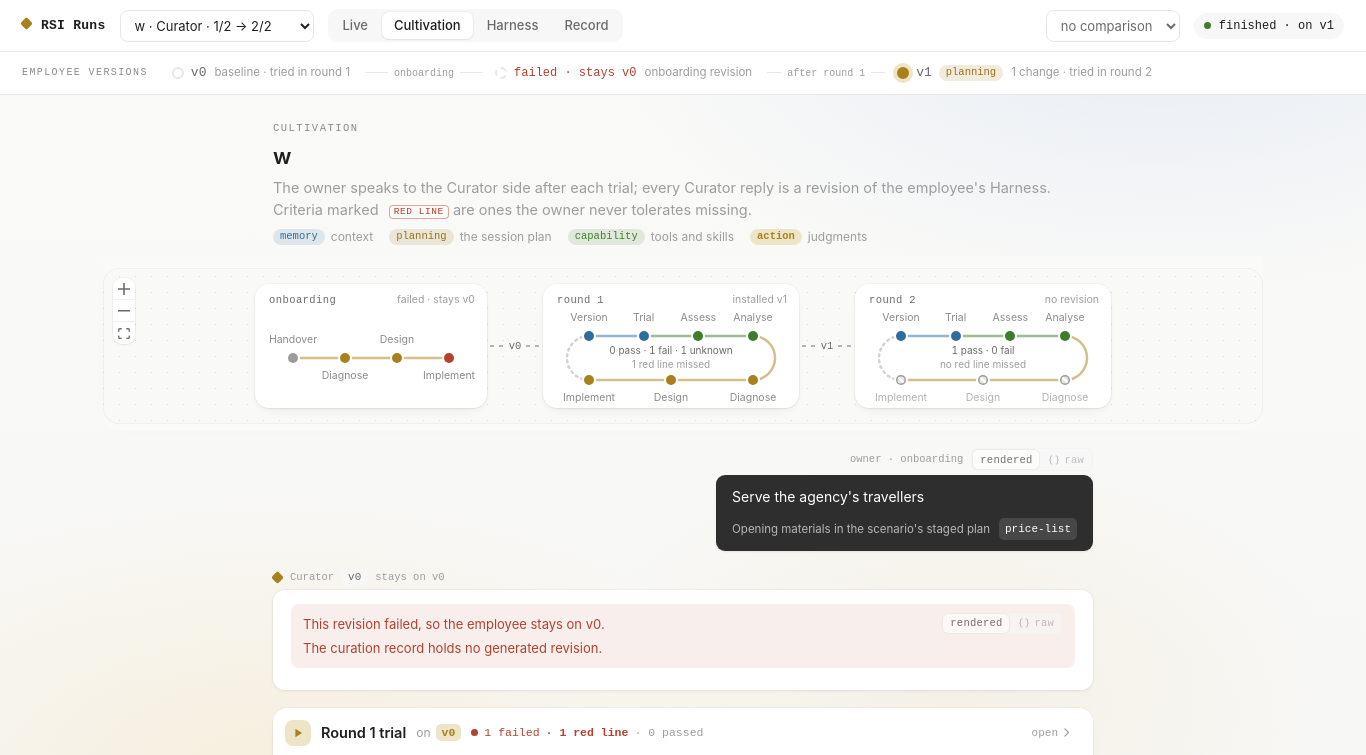
Scenario: the harness view shows changes by harness and red lines by version
Expected: the text "Serve the agency's travellers" is shown, [732,488,924,505]
Click the tab "Harness" at (513, 26), box [475,12,550,39]
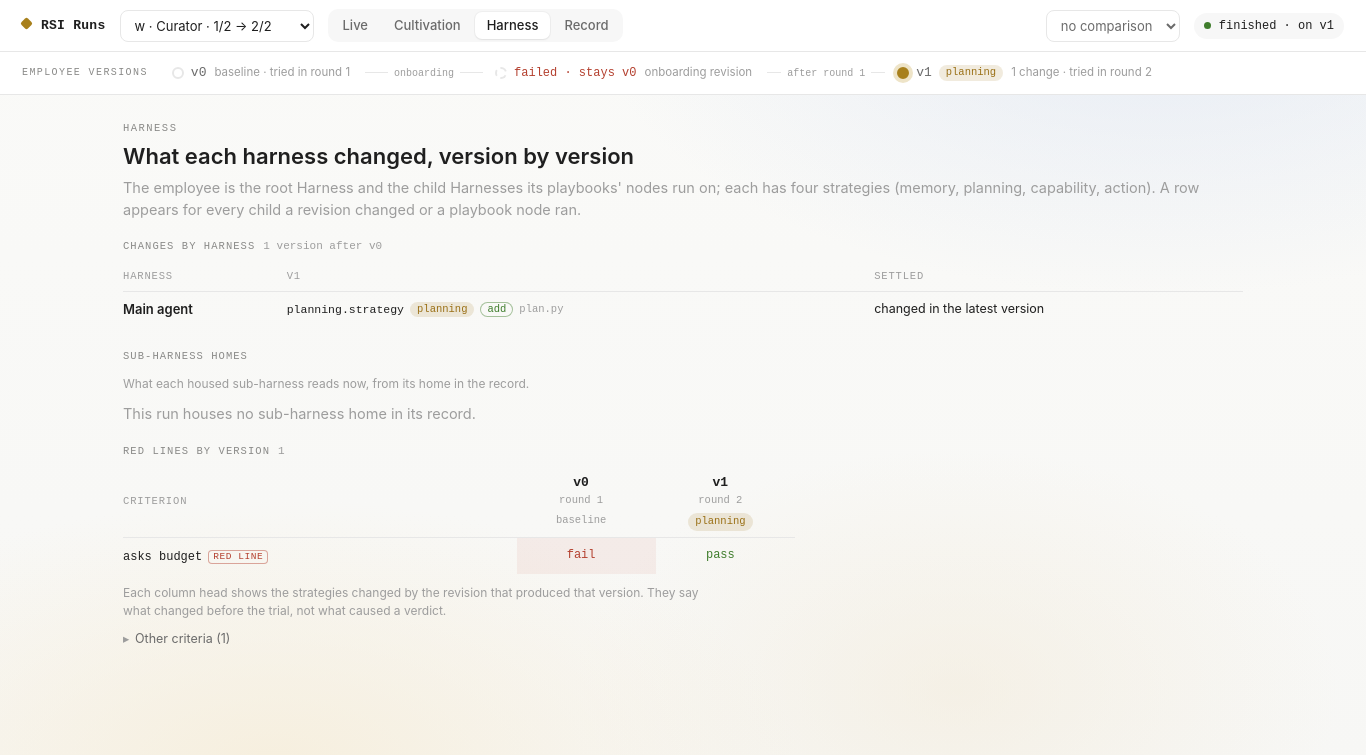
Expected: the heading "Red lines by version 1" is shown, [123,445,285,457]
Expected: the text "Main agent" is shown, [123,291,287,331]
Expected: the text "add" is shown, [480,302,513,317]
